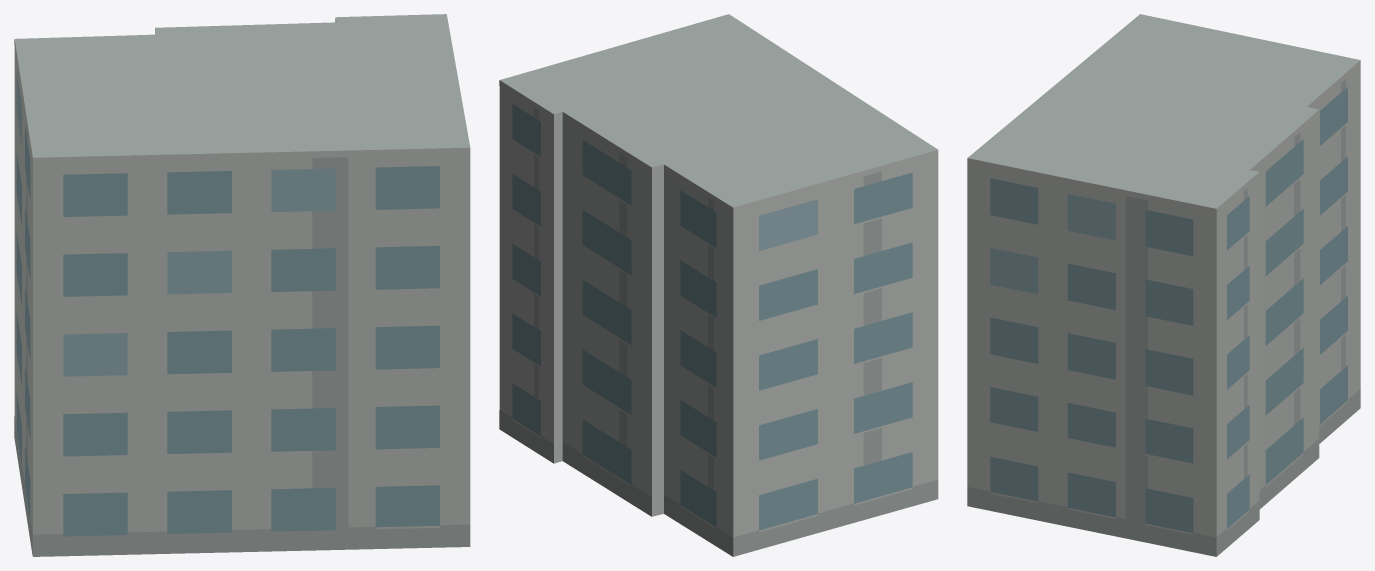
The model's file is survey-upis-33035890.glb.
The picture shows the model from 3 angles, left to right: view 1: azimuth 30°, elevation 25°; view 2: azimuth 150°, elevation 25°; view 3: azimuth 270°, elevation 25°; orthographic projection. The views are drawn at different scales.
Visible parts, largest first — view 1: survey-upis-33035890.tmp; view 2: survey-upis-33035890.tmp; view 3: survey-upis-33035890.tmp.
Part boxes in pixels (bbox=[...]): survey-upis-33035890.tmp: bbox=[14, 14, 470, 556]; survey-upis-33035890.tmp: bbox=[499, 14, 938, 556]; survey-upis-33035890.tmp: bbox=[967, 14, 1360, 556].
Bounding box in the file's own units: 17.53 × 14.6 × 14.96.
